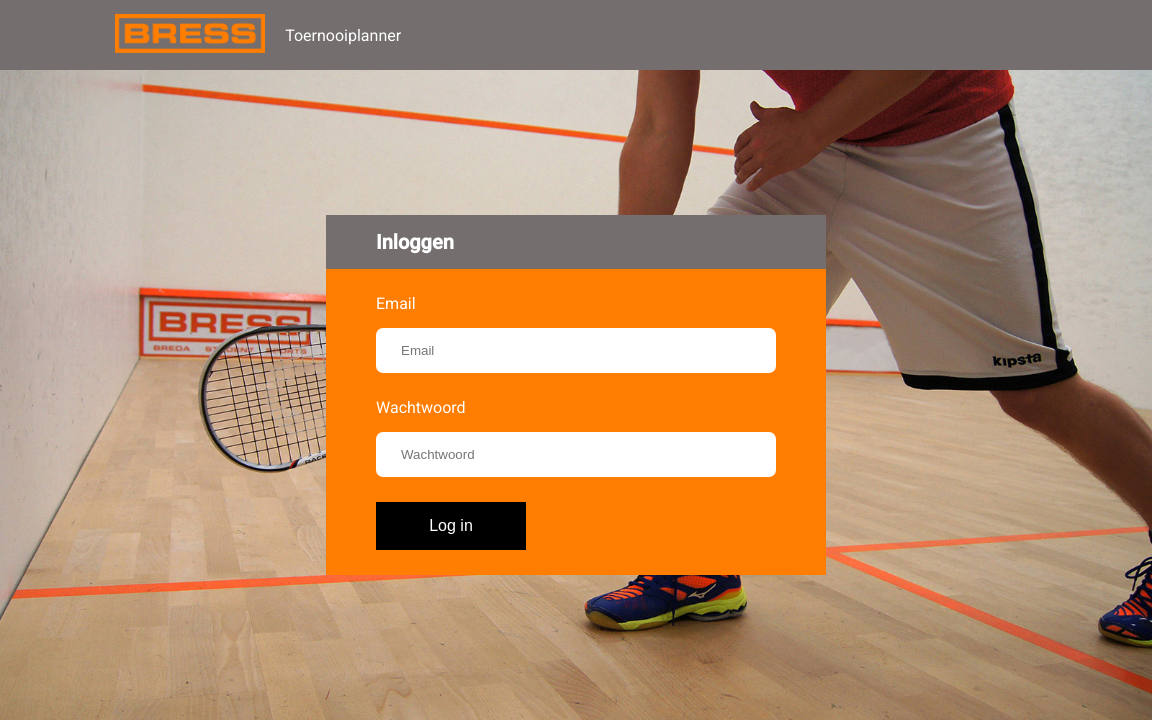
Test: Login test › should get an error on a missing email
The width and height of the screenshot is (1152, 720).
Type "supersecret" into the password field with placeholder "Wachtwoord" at (576, 455), box left=376, top=432, right=776, bottom=477
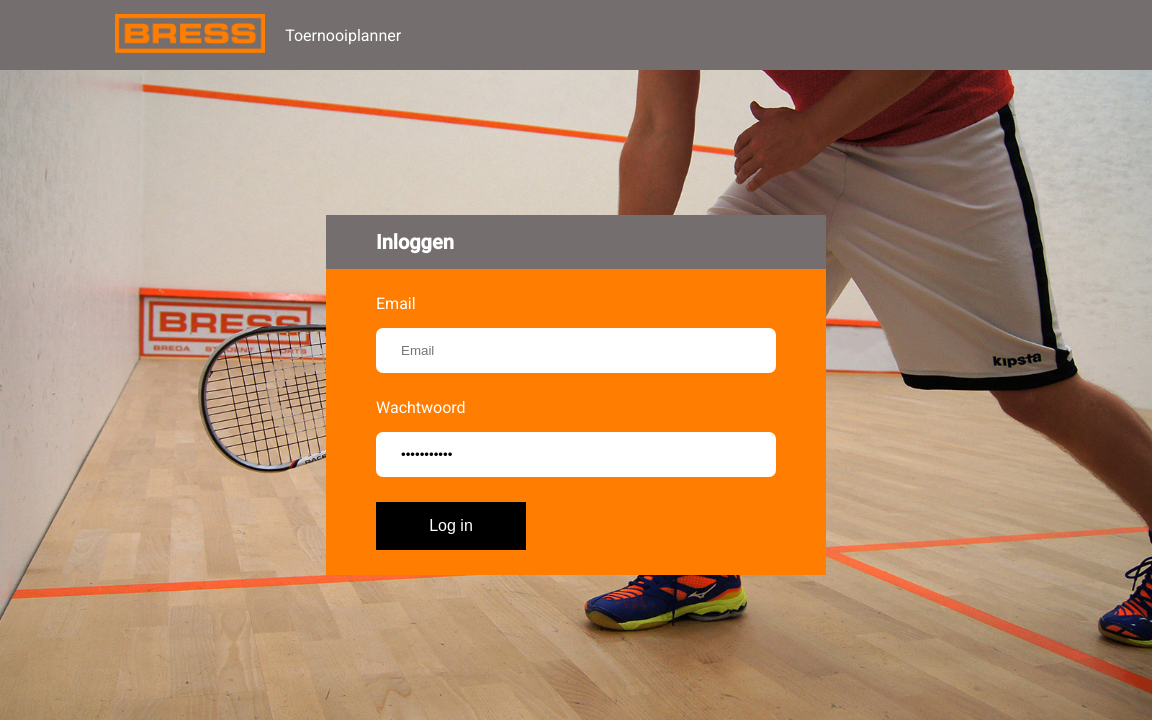
Click the button "Log in" at (451, 526), box left=376, top=502, right=526, bottom=550
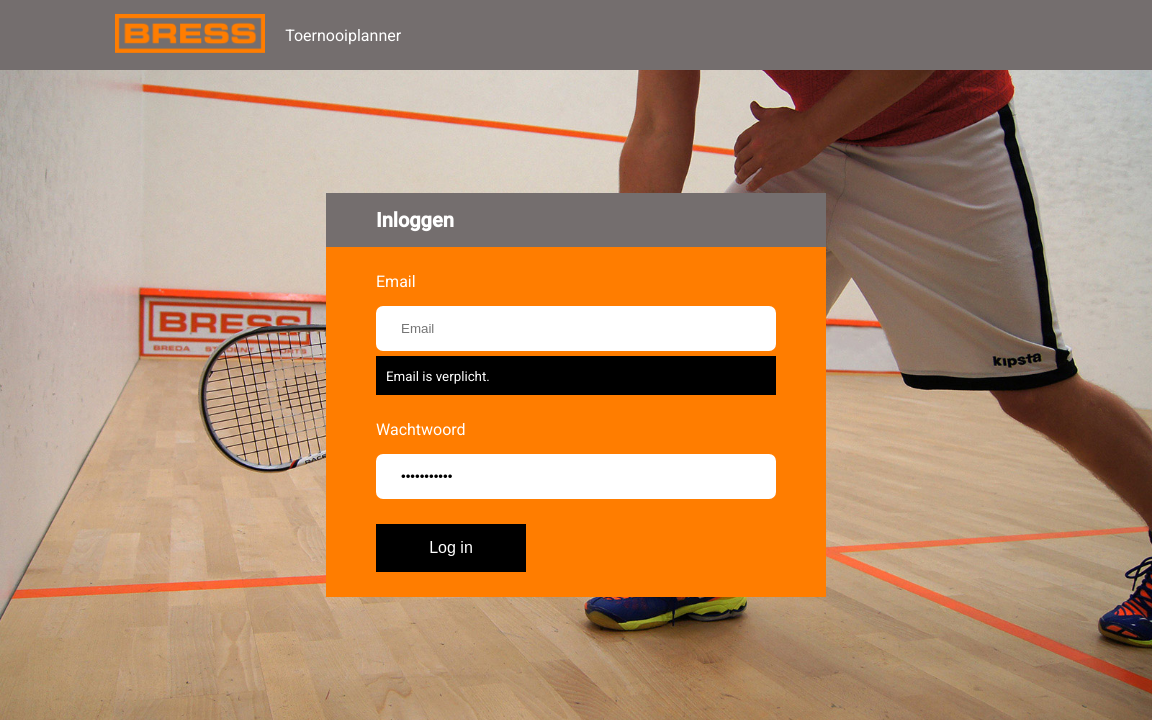
Check: the text "Email is verplicht." is shown, box left=386, top=369, right=490, bottom=384
